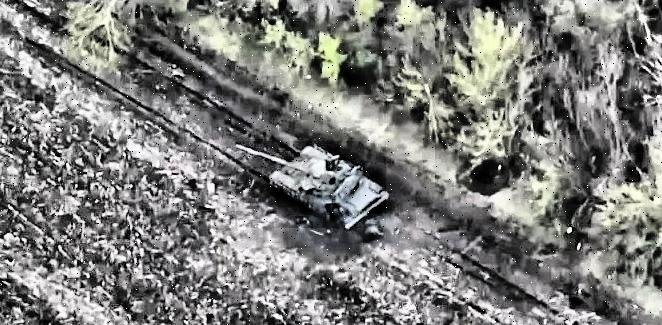military-vehicle: (237, 141, 387, 228)
